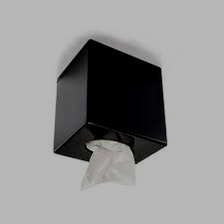plastic_box: (46, 34, 173, 171)
tissue: (70, 136, 141, 197)
